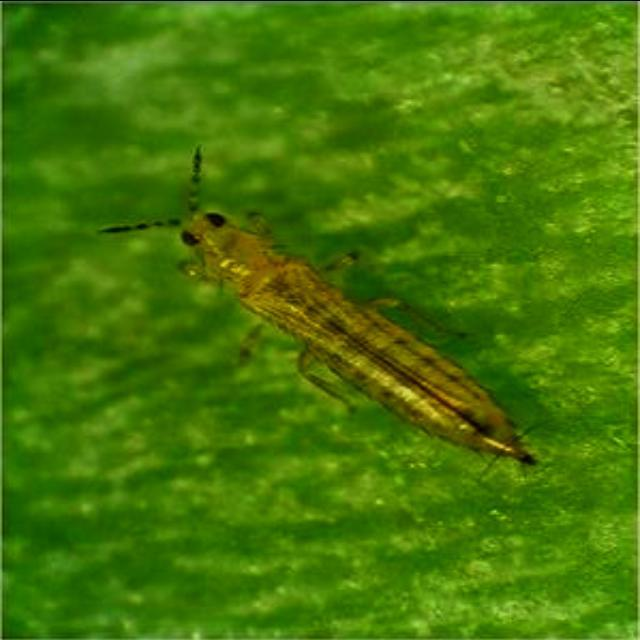melon thrips: (51, 124, 562, 550)
